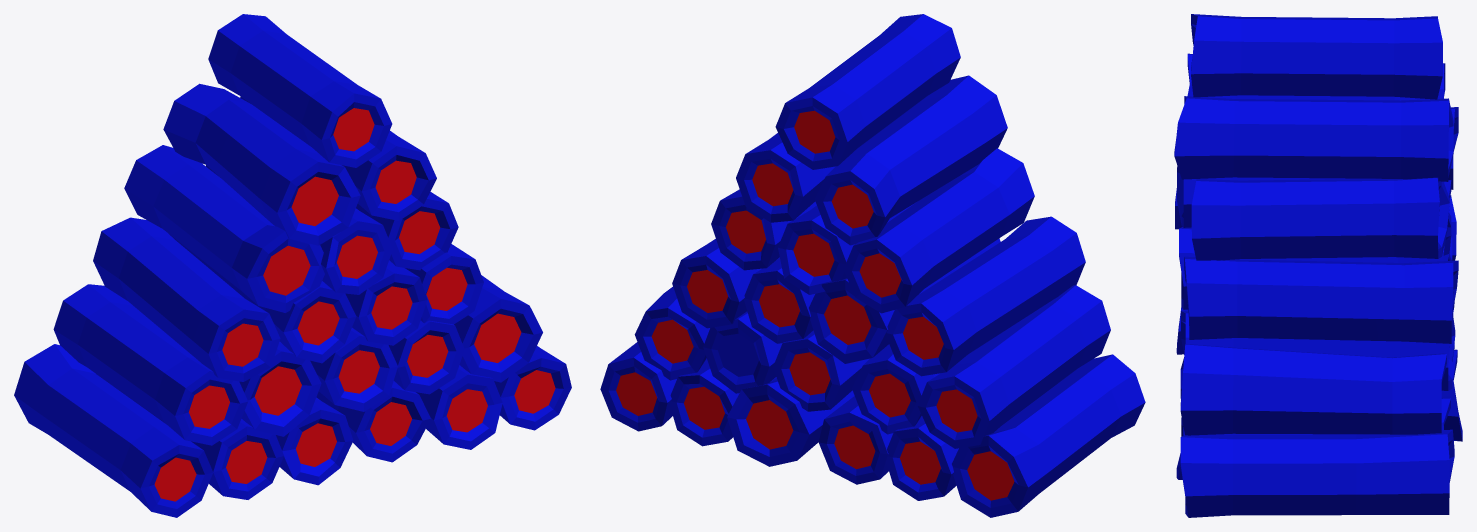
File: SM_Short_LogStack3.fbx
The picture shows the model from 3 angles, left to right: view 1: azimuth 30°, elevation 25°; view 2: azimuth 150°, elevation 25°; view 3: azimuth 270°, elevation 25°; orthographic projection. The views are drawn at different scales.
Parts seen in each view (by area): view 1: SM_Short_LogStack3; view 2: SM_Short_LogStack3; view 3: SM_Short_LogStack3.
Part boxes in pixels (bbox=[...]): SM_Short_LogStack3: bbox=[14, 14, 571, 517]; SM_Short_LogStack3: bbox=[600, 14, 1145, 517]; SM_Short_LogStack3: bbox=[1174, 14, 1462, 517].
Size of the model in its own units: 126 by 104 by 66.91.
